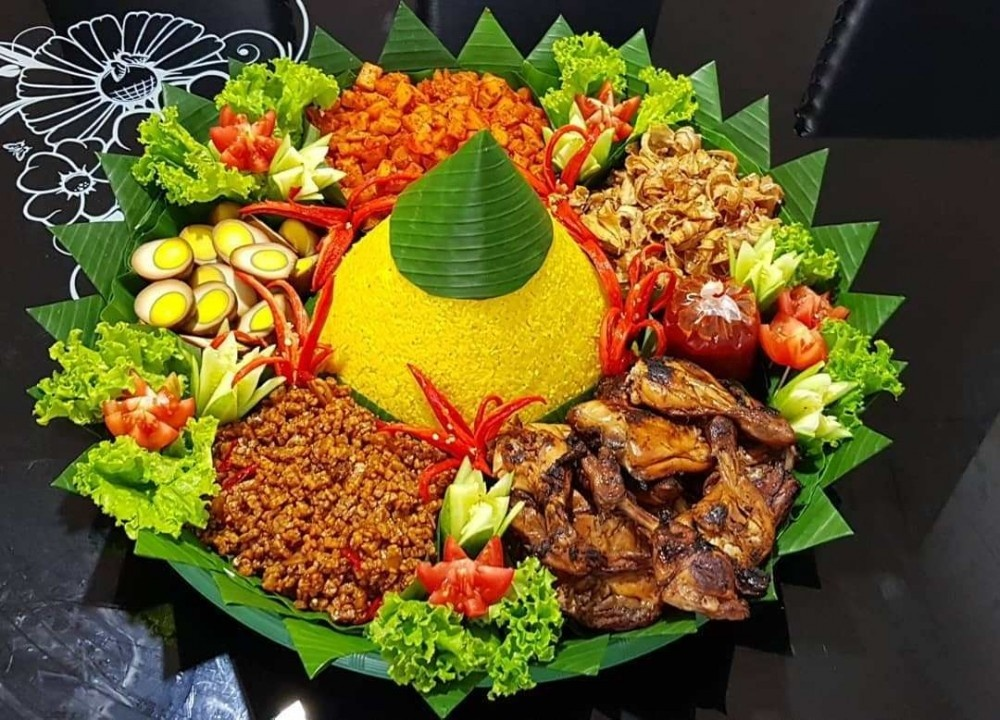nasi_tumpeng: (127, 65, 849, 629)
